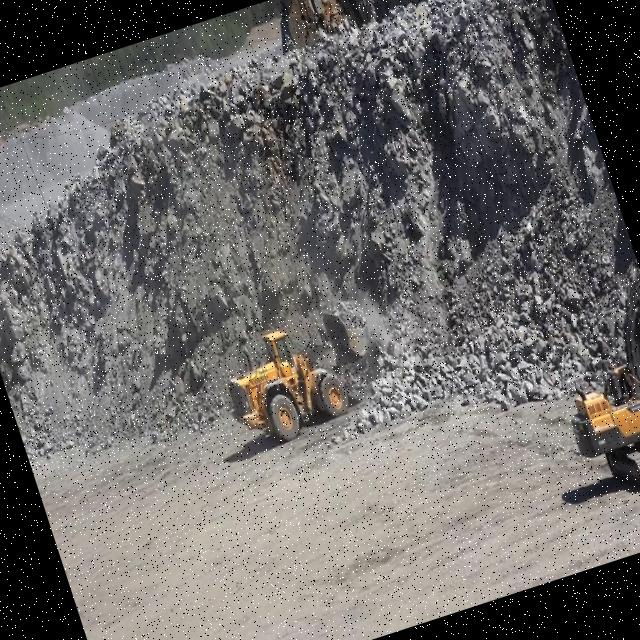Excavator: (526, 257, 640, 512)
Loader: (205, 294, 396, 458)
